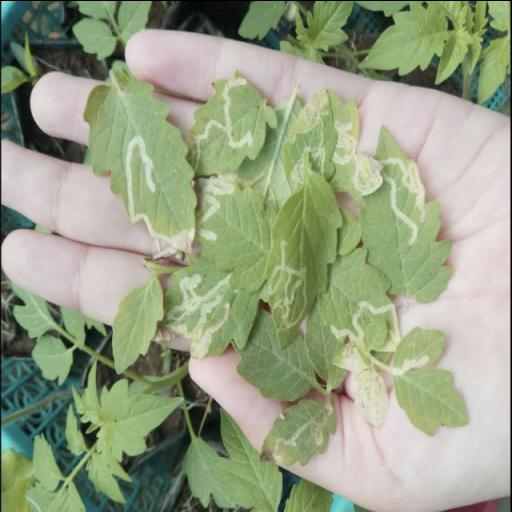disease_tomato: (83, 64, 198, 254), (364, 124, 452, 304), (263, 170, 342, 350), (186, 70, 278, 172), (390, 326, 471, 436), (162, 266, 236, 360), (257, 400, 339, 468)
